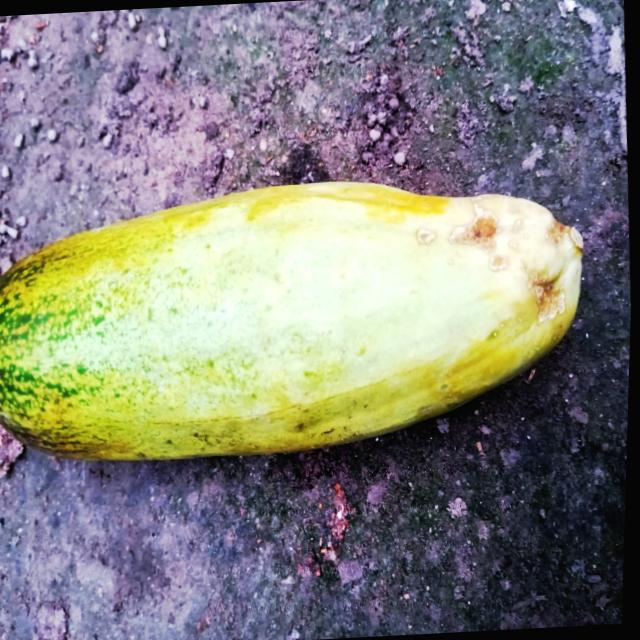Belly-Rot: (407, 192, 583, 345)
